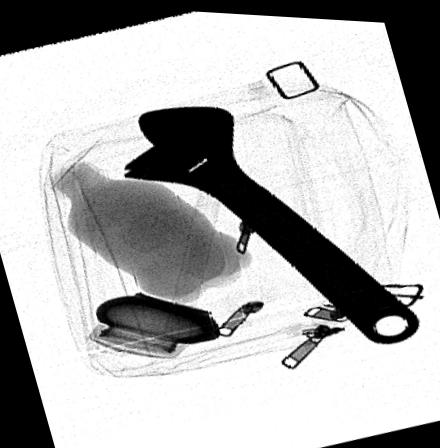Wrench: (120, 101, 424, 340)
